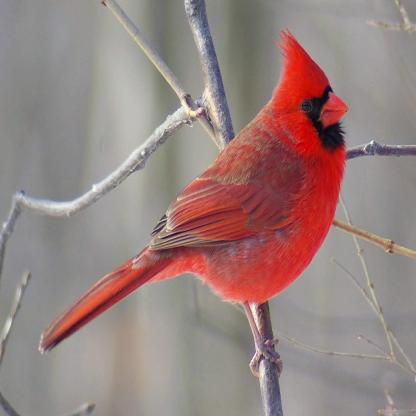other: (262, 48, 350, 292), (176, 169, 254, 247), (132, 260, 206, 276)
